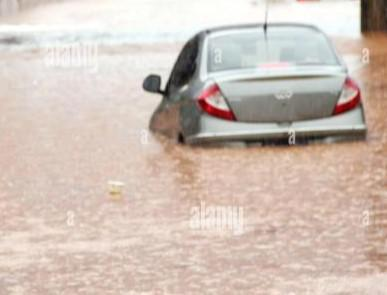water: (0, 0, 386, 293)
